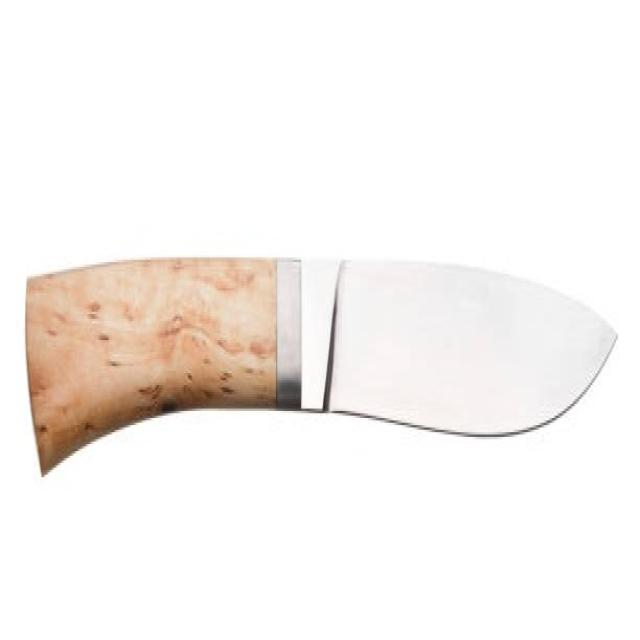knife: (20, 243, 625, 494)
